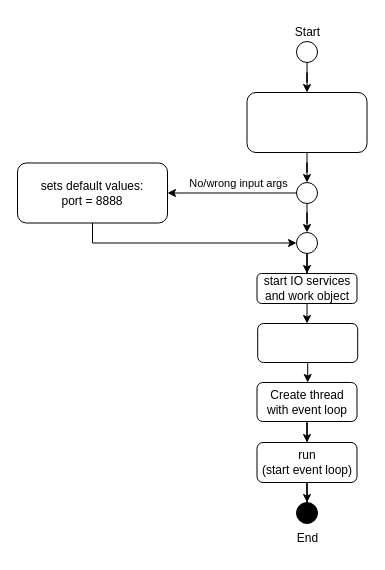
Image size: 385x570. Some labels were removed from this diagram. Each missing label, with the box of its shape:
Create servers for each room/port: (257, 322, 358, 362)
main: parse input args: (246, 92, 367, 152)
